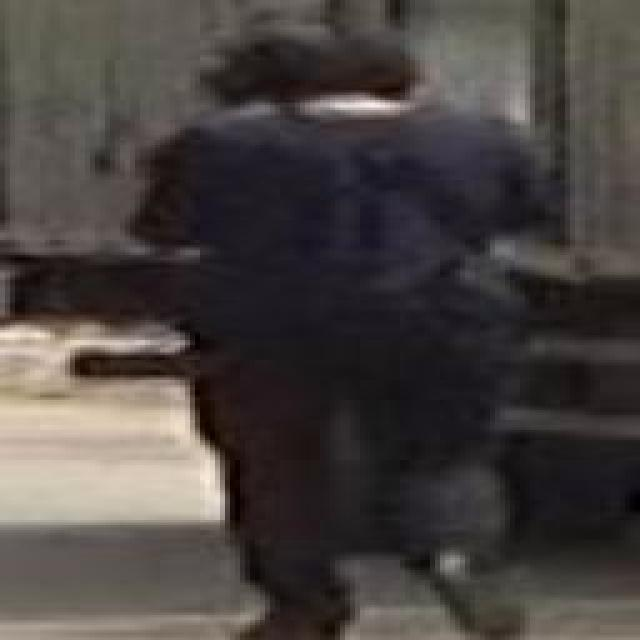adult: (127, 45, 576, 640)
